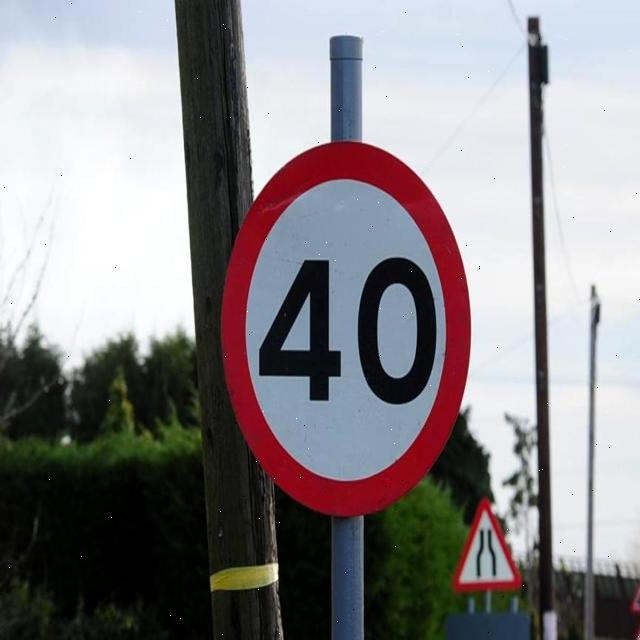speed limit 40: (219, 143, 472, 517)
